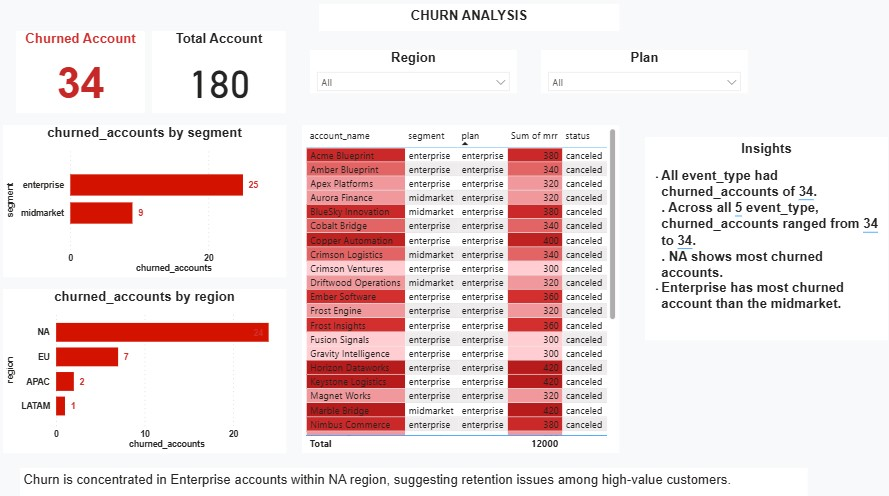

Layout of this report page (visuals, bound fields, positions):
{"tool":"powerbi","page":{"name":"CHURN ANALYSIS","canvas":[1280,720],"ordinal":1},"visuals":[{"type":"barChart","fields":{"Y":["measure.churned_accounts"],"Category":["accounts.region"]},"box":[19.8,416.5,399.5,231.5],"z":0},{"type":"tableEx","fields":{"Values":["accounts.account_name","accounts.segment","accounts.plan","Sum(subscriptions.mrr)","subscriptions.status"]},"box":[441.9,184.9,447.5,463.1],"z":1000},{"type":"barChart","fields":{"Category":["accounts.segment"],"Y":["measure.churned_accounts"]},"box":[19.8,184.9,399.5,214.6],"z":2000},{"type":"slicer","title":"Region","fields":{"Values":["accounts.region"]},"box":[453.2,79.1,292.2,60.7],"z":3000},{"type":"slicer","title":"Plan","fields":{"Values":["accounts.plan"]},"box":[779.3,79.1,292.2,60.7],"z":4000},{"type":"card","title":"Churned Account","fields":{"Values":["measure.churned_accounts"]},"box":[38.1,52.2,182.1,115.8],"z":6000},{"type":"card","title":"Total Account","fields":{"Values":["measure.total_account"]},"box":[230.1,52.2,189.2,115.8],"z":7000},{"type":"textbox","box":[926.1,201.9,343.1,286.6],"z":8000},{"type":"textbox","box":[465.9,14.1,423.5,38.1],"z":9000},{"type":"textbox","box":[43.8,669.2,1112.5,40.9],"z":10000}]}

Visuals, with their boxes in screenshot pixels (x1, y1, x2, y2), scaled from the page's 1280x720 canvas onto the 889x496 screenshot:
barChart - measure.churned_accounts x accounts.region: 14:287:291:446
tableEx - accounts.account_name x accounts.segment: 307:127:618:446
barChart - accounts.segment x measure.churned_accounts: 14:127:291:275
"Region" slicer: 315:54:518:96
"Plan" slicer: 541:54:744:96
"Churned Account" card: 26:36:153:116
"Total Account" card: 160:36:291:116
textbox: 643:139:881:337
textbox: 324:10:618:36
textbox: 30:461:803:489
